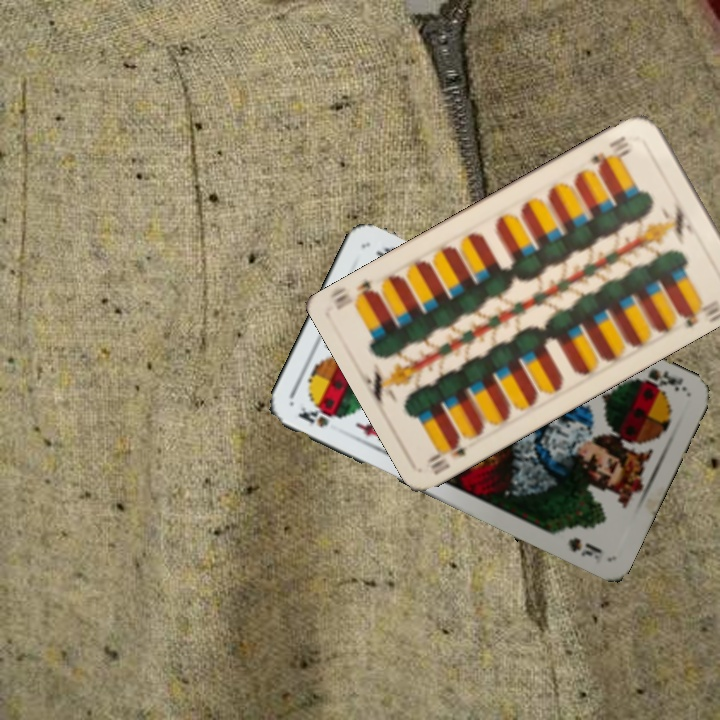E10: (423, 433, 469, 478), (586, 131, 632, 172)
SK: (631, 364, 688, 396), (294, 403, 337, 430)
